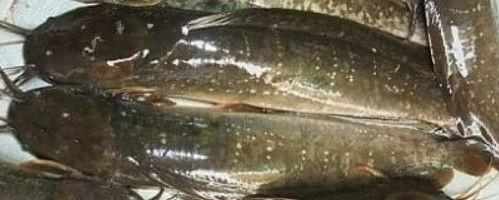Catfish: (2, 7, 463, 131), (2, 81, 490, 198)
